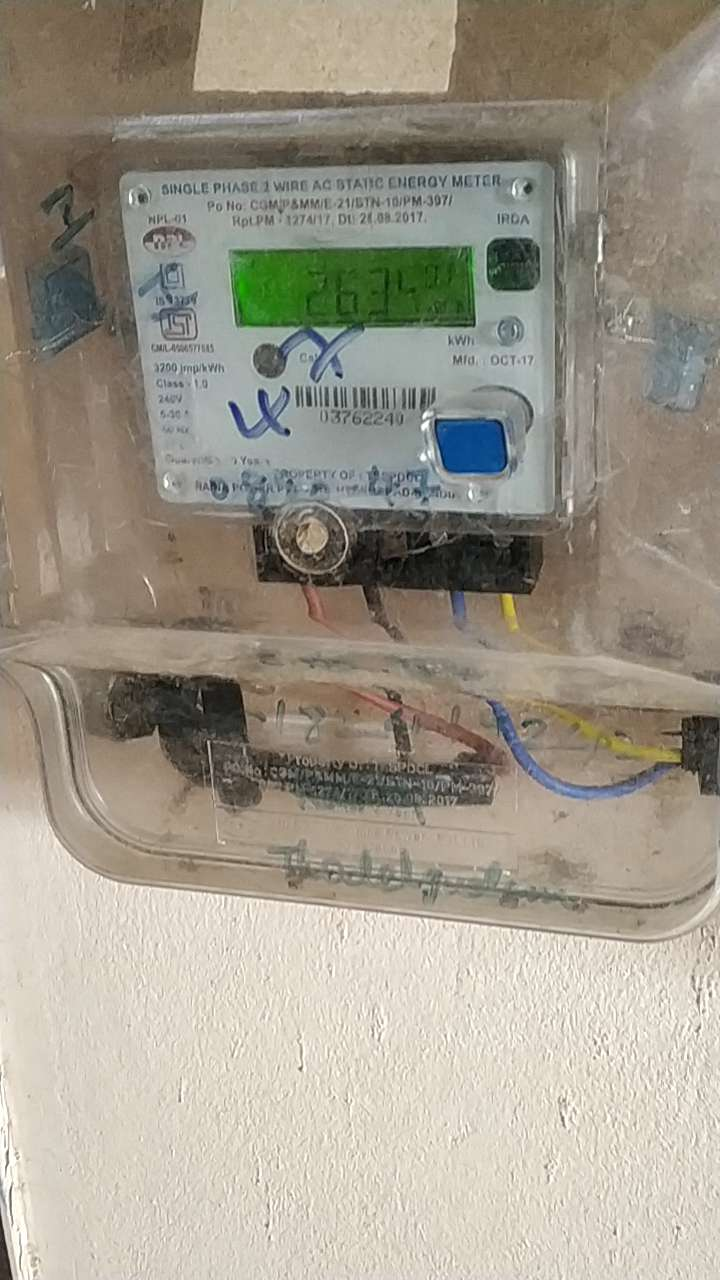meter_serial_number: (314, 406, 414, 429)
